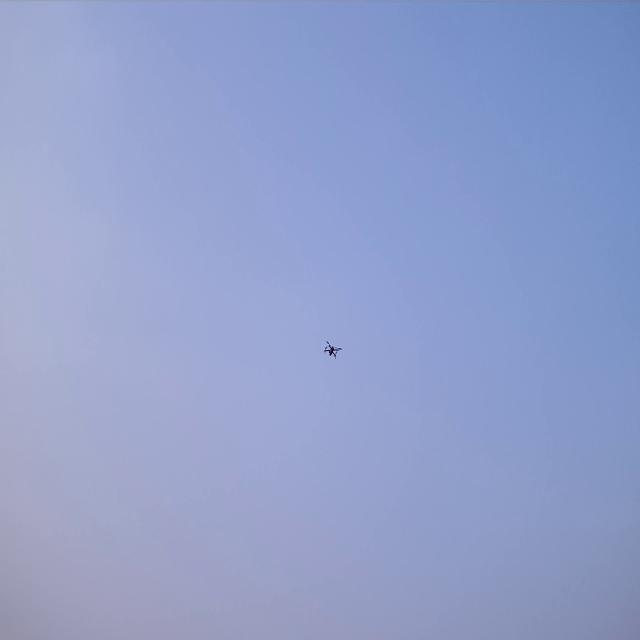UAV: (322, 340, 343, 360)
